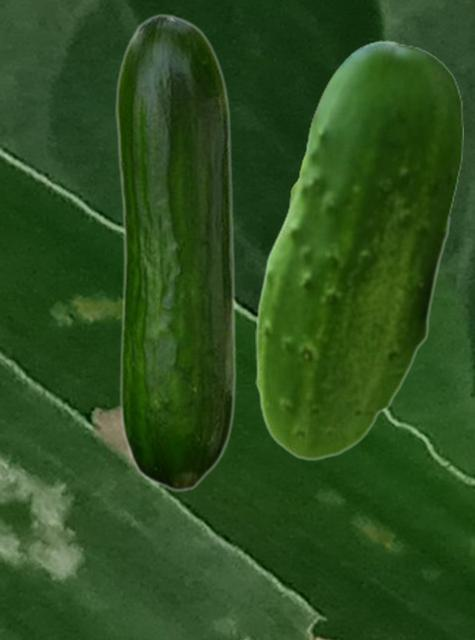cucumber: (255, 40, 462, 460), (115, 13, 236, 491)
